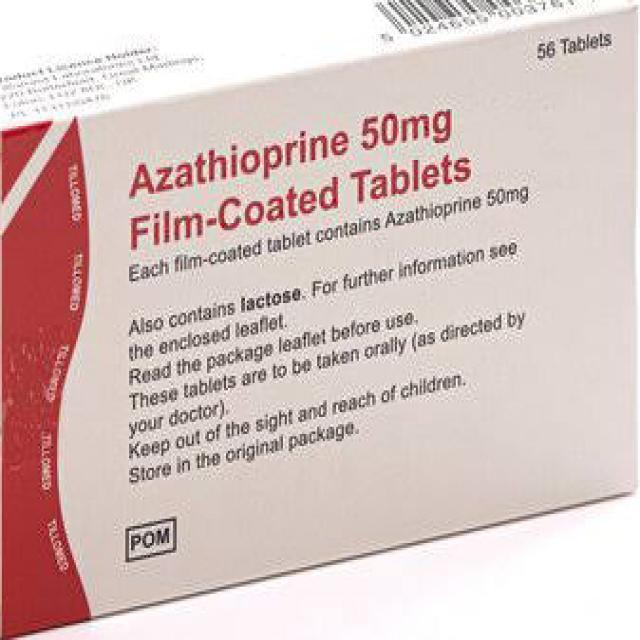drug-name: (125, 118, 354, 206)
